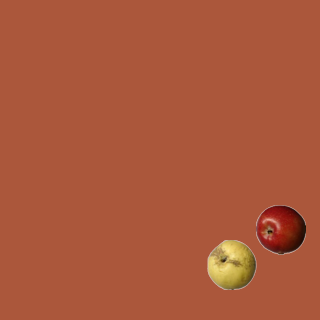Apple Braeburn: (255, 204, 305, 254)
Apple Golden 1: (206, 239, 256, 289)
